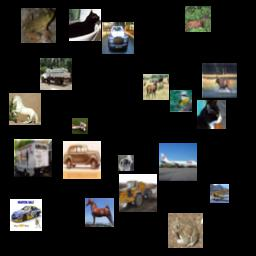airplane: (159, 143, 197, 181), (210, 184, 229, 203), (72, 118, 88, 134)
automobile: (63, 141, 101, 179), (102, 22, 134, 54), (10, 199, 42, 231)
bird: (170, 90, 192, 112)
cat: (69, 9, 101, 41), (197, 100, 226, 129)
deer: (202, 63, 237, 98), (185, 6, 211, 32), (143, 74, 169, 100)
dog: (118, 155, 134, 171)
frog: (168, 213, 203, 248), (21, 8, 56, 43)
truck: (119, 174, 157, 212), (14, 139, 52, 177), (40, 58, 72, 90)
